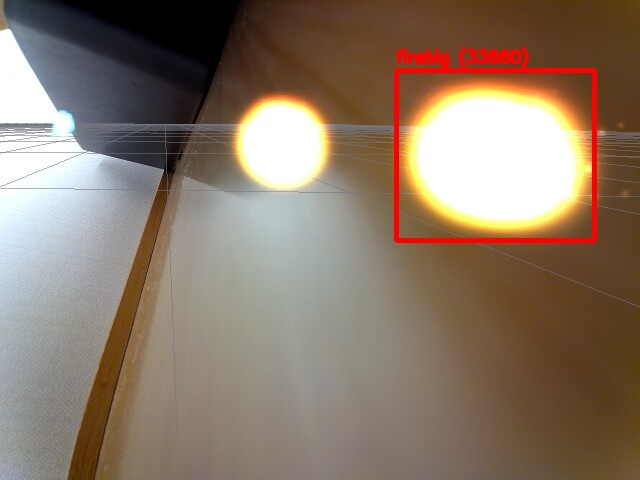firebig: (396, 70, 594, 240)
